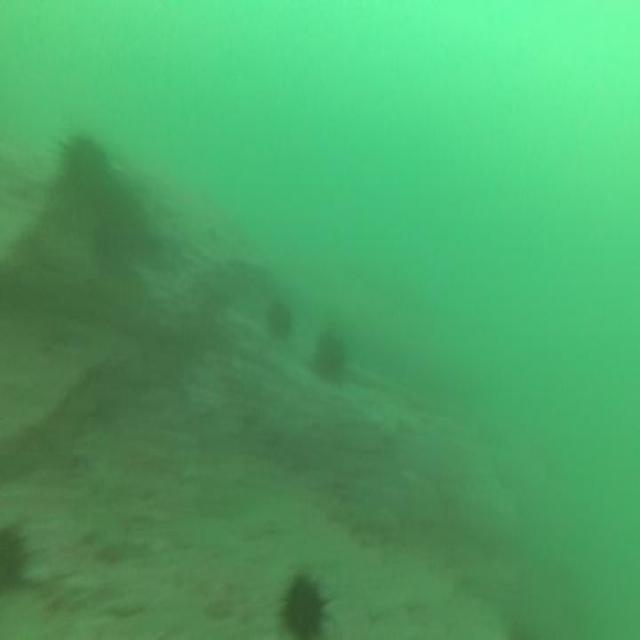echinus: (55, 127, 113, 236), (88, 182, 139, 281), (277, 564, 330, 640), (0, 518, 34, 604), (313, 326, 350, 382), (263, 294, 293, 341)
